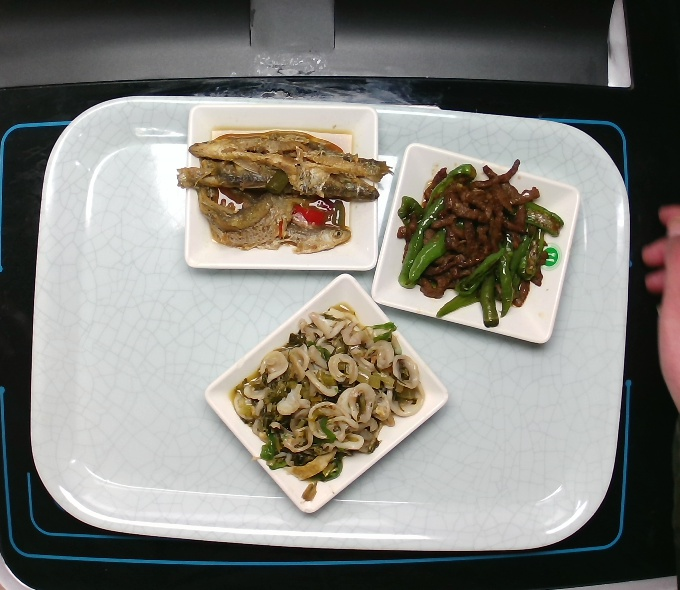wcq-QingJiaoNiuRou: (389, 156, 568, 332)
wcq-XiaoXiYu: (168, 126, 398, 257)
wcq-XueCaiYouYu: (227, 302, 428, 507)
